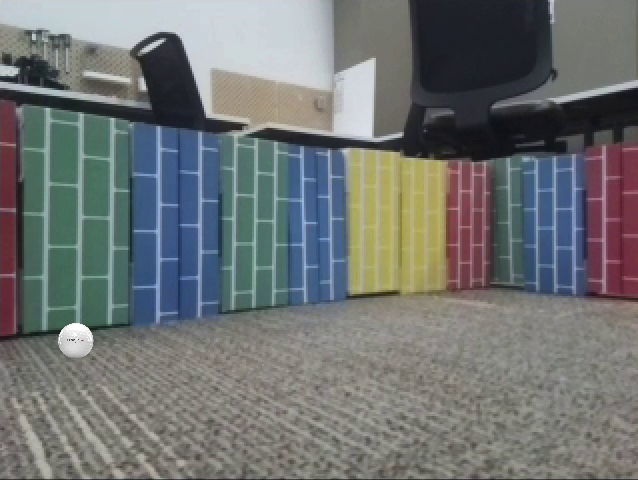pen: (549, 175, 571, 322)
